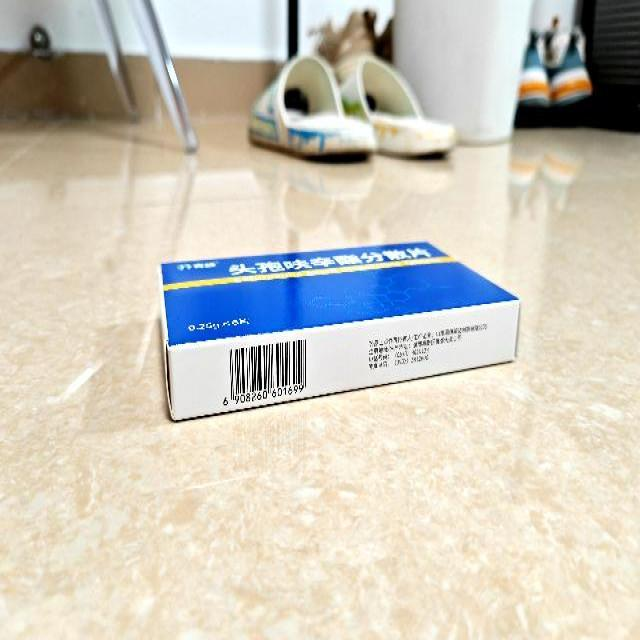box: (158, 240, 520, 420)
